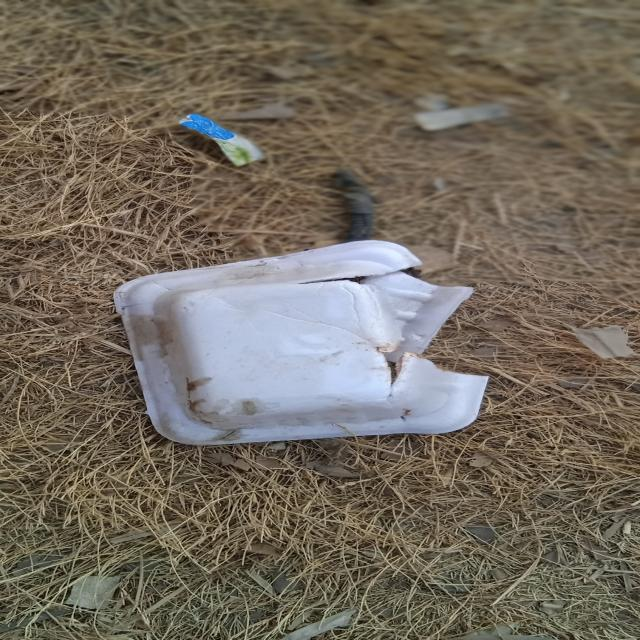electronic: (112, 238, 490, 446)
